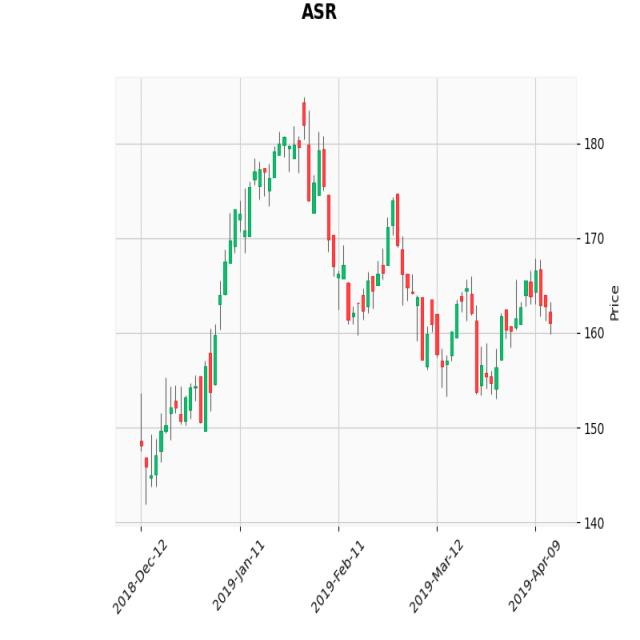Double-Bottom: (402, 245, 534, 410)
